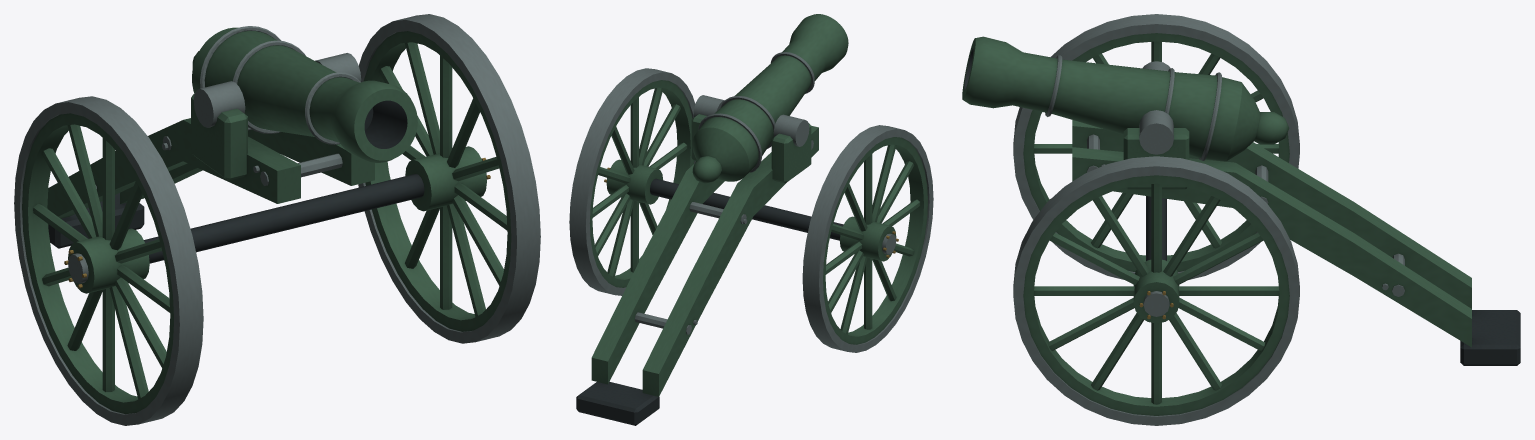
File: cannon.glb
3 views of the same model, side by side, from view 1: azimuth 30°, elevation 25°; view 2: azimuth 150°, elevation 25°; view 3: azimuth 270°, elevation 25° (orthographic). The views are drawn at different scales.
Parts seen in each view (by area): view 1: cannon; view 2: cannon; view 3: cannon.
Boxes of the visible parts, box(x1,y1,x2,y2) form: cannon: box(14, 14, 540, 425); cannon: box(569, 14, 933, 425); cannon: box(962, 14, 1520, 425).
Bounding box in the file's own units: 1.54 × 1.3 × 2.12.
Materials: 1 (1 with a texture image).
